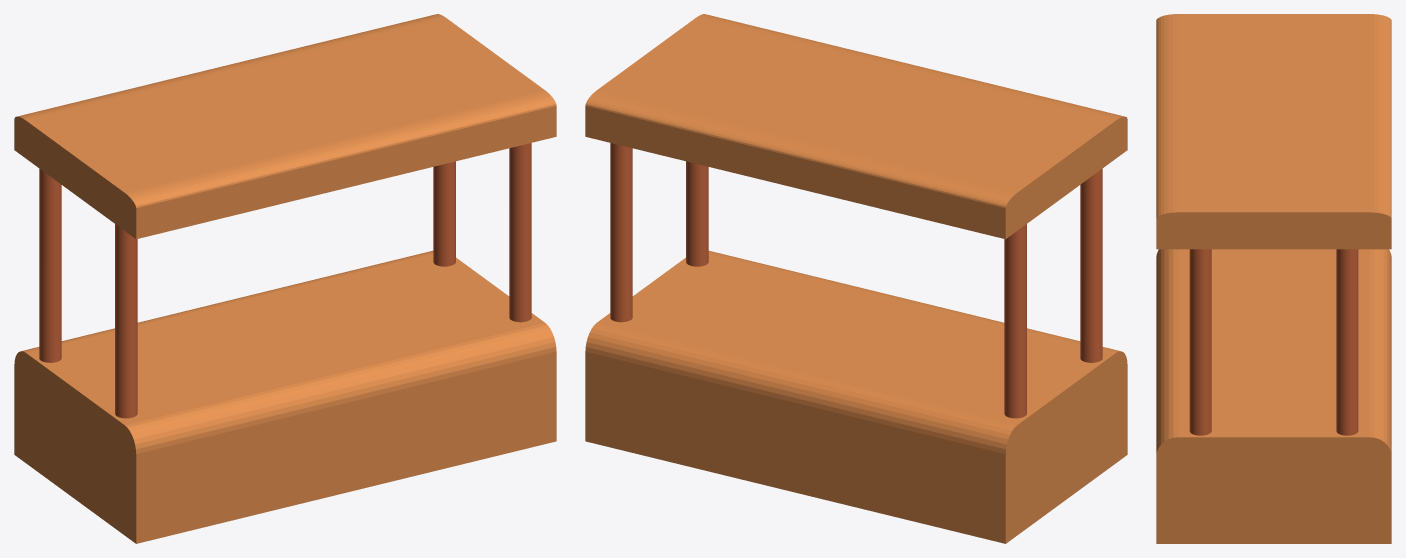
Rendered from wydawka2.gltf.
The picture shows the model from 3 angles, left to right: view 1: azimuth 30°, elevation 25°; view 2: azimuth 150°, elevation 25°; view 3: azimuth 270°, elevation 25°; orthographic projection. The views are drawn at different scales.
Parts seen in each view (by area): view 1: Cube.001, Cube.002, Cylinder; view 2: Cube.001, Cube.002, Cylinder; view 3: Cube.001, Cube.002, Cylinder.
Boxes of the visible parts, box(x1,y1,x2,y2) form: Cube.001: box(14, 250, 556, 543); Cube.002: box(14, 14, 556, 239); Cylinder: box(39, 143, 531, 418); Cube.001: box(585, 250, 1127, 543); Cube.002: box(585, 14, 1127, 239); Cylinder: box(610, 143, 1102, 418); Cube.001: box(1156, 249, 1391, 543); Cube.002: box(1156, 14, 1391, 249); Cylinder: box(1189, 249, 1358, 435).
Size of the model in its own units: 3.99 by 3.11 by 2.
1 material, 1 textured.
